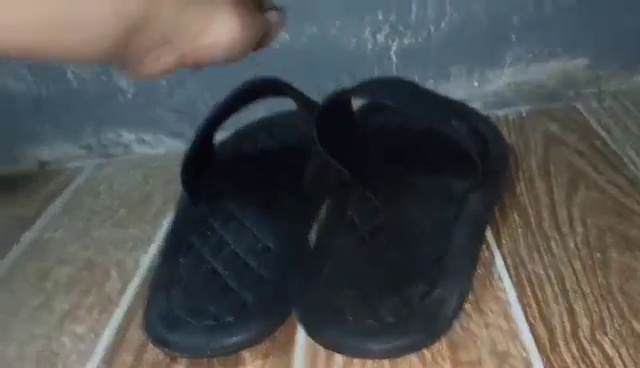slipper: (300, 80, 510, 361), (138, 76, 320, 361)
